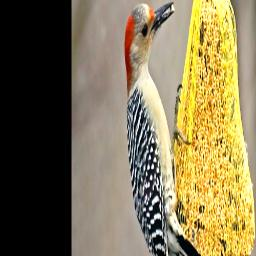Woodpecker: (111, 0, 222, 256)
